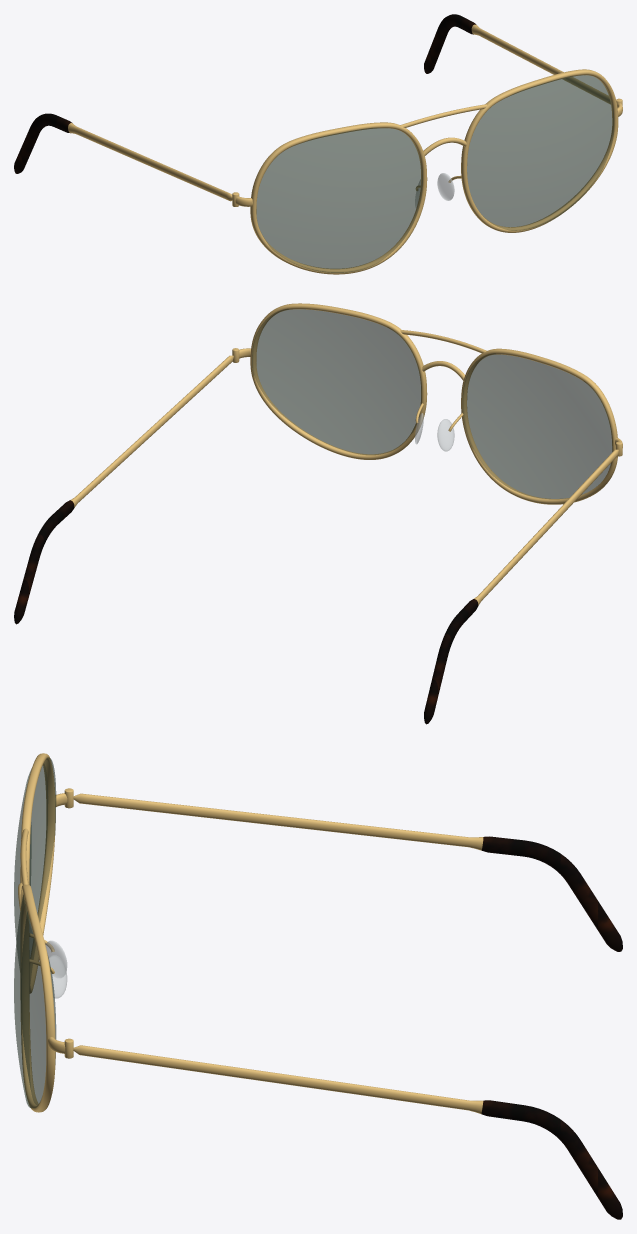
File: sky-m.glb
3 renders of one model, top to bottom at view 1: azimuth 30°, elevation 25°; view 2: azimuth 150°, elevation 25°; view 3: azimuth 270°, elevation 25°, orthographic. The views are drawn at different scales.
Visible parts, largest first — view 1: Lens_R, Lens_L, Front, Temple_R, Temple_L, NosePads; view 2: Lens_L, Lens_R, Front, Temple_L, Temple_R, NosePads; view 3: Front, Temple_L, Temple_R, Lens_L, Lens_R, NosePads.
Part boxes in pixels (left/top/right/bottom): Lens_R: left=256, top=128, right=422, bottom=272; Lens_L: left=467, top=75, right=613, bottom=230; Front: left=232, top=69, right=622, bottom=274; Temple_R: left=14, top=113, right=232, bottom=201; Temple_L: left=424, top=14, right=610, bottom=104; NosePads: left=415, top=173, right=454, bottom=207; Lens_L: left=252, top=309, right=421, bottom=454; Lens_R: left=462, top=353, right=612, bottom=498; Front: left=232, top=303, right=622, bottom=504; Temple_L: left=14, top=355, right=233, bottom=624; Temple_R: left=424, top=449, right=618, bottom=724; NosePads: left=415, top=413, right=454, bottom=451; Front: left=18, top=753, right=73, bottom=1112; Temple_L: left=73, top=1045, right=622, bottom=1219; Temple_R: left=73, top=793, right=622, bottom=951; Lens_L: left=14, top=894, right=56, bottom=1108; Lens_R: left=14, top=757, right=56, bottom=967; NosePads: left=45, top=940, right=67, bottom=998.
Bounding box in the file's own units: 0.1476 × 0.0609 × 0.1393.
Materials: 6 (1 with a texture image).
